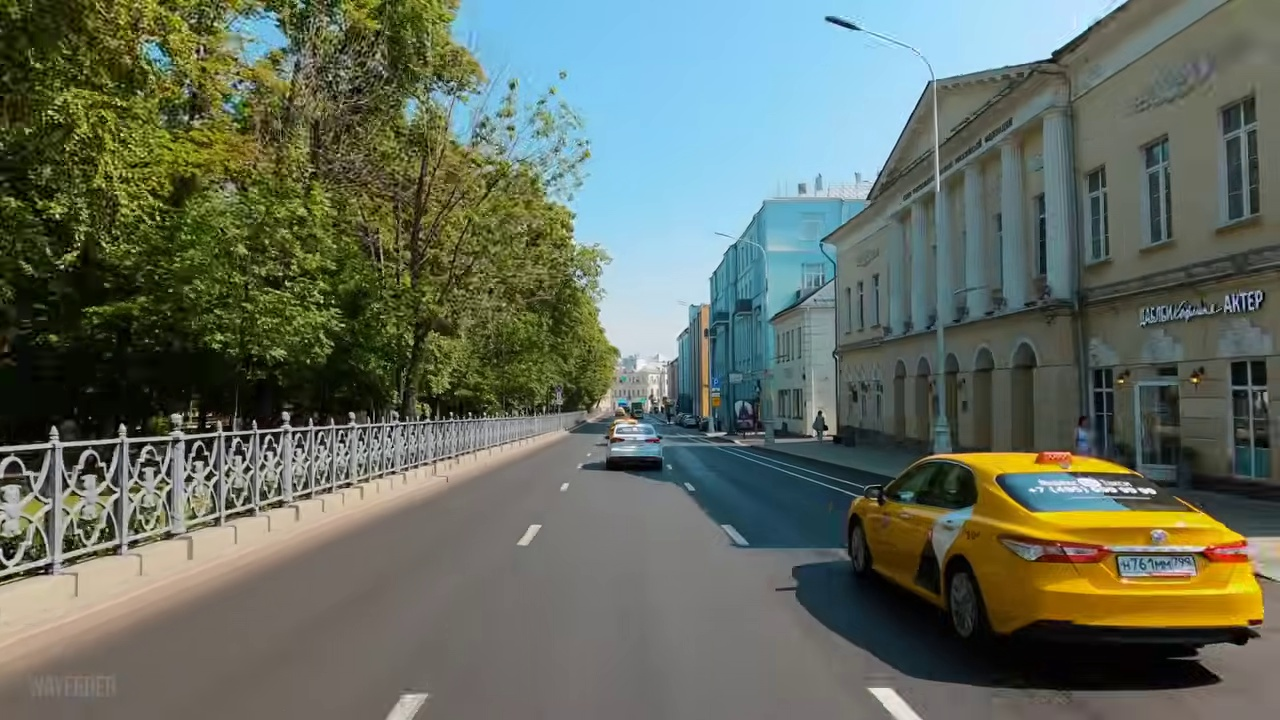apagada: (821, 10, 860, 38)
